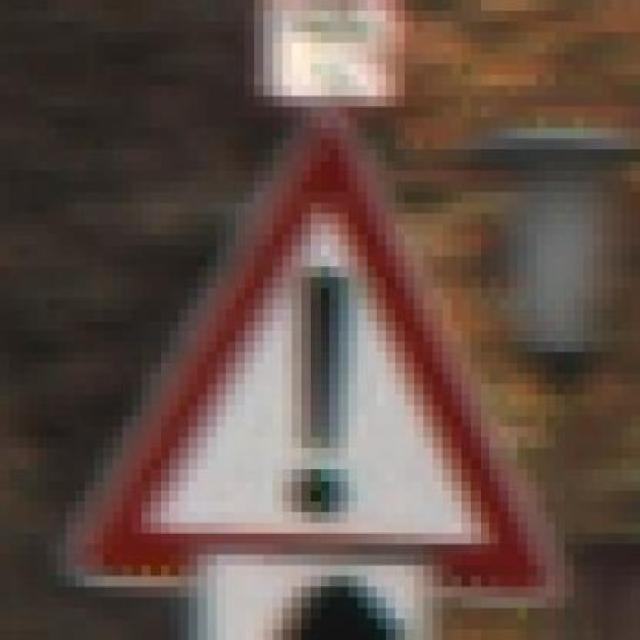Attention Please-: (47, 107, 575, 608)
